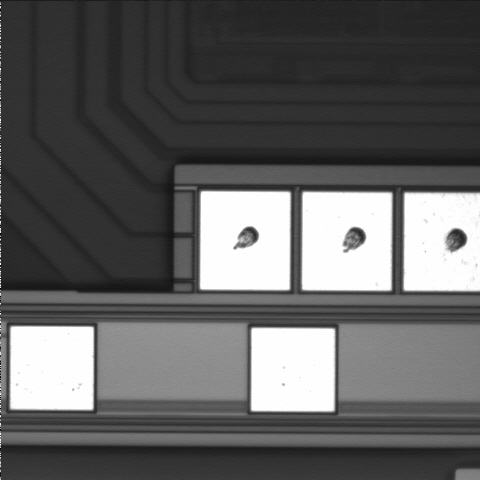pad: (200, 191, 290, 290), (302, 192, 392, 290), (10, 326, 94, 410), (251, 328, 335, 411)
